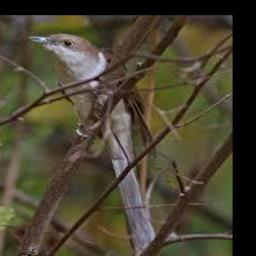Cuckoo: (31, 33, 159, 247)
